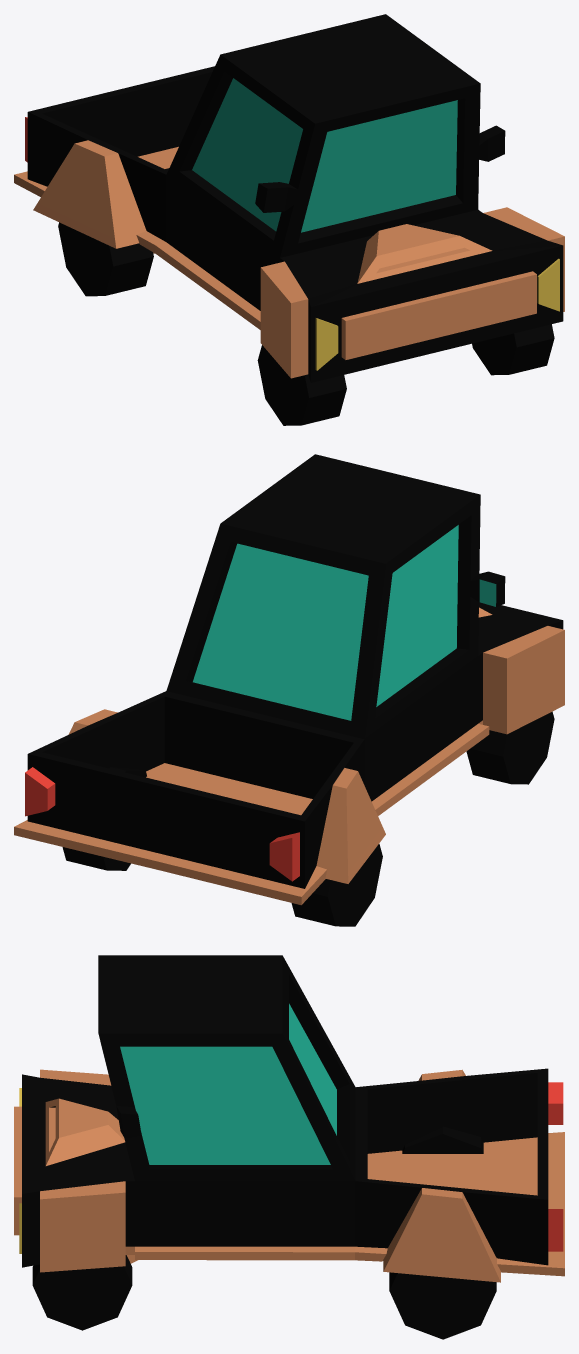
Rendered from pickup.fbx.
3 views of the same model, one above another, from view 1: azimuth 30°, elevation 25°; view 2: azimuth 150°, elevation 25°; view 3: azimuth 270°, elevation 25° (orthographic). The views are drawn at different scales.
Visible parts, largest first — view 1: pickup1; view 2: pickup1; view 3: pickup1.
Part boxes in pixels (left/top/right/bottom): pickup1: left=14, top=14, right=564, bottom=425; pickup1: left=14, top=454, right=564, bottom=926; pickup1: left=14, top=955, right=564, bottom=1339.
Size of the model in its own units: 115 by 101 by 179.
